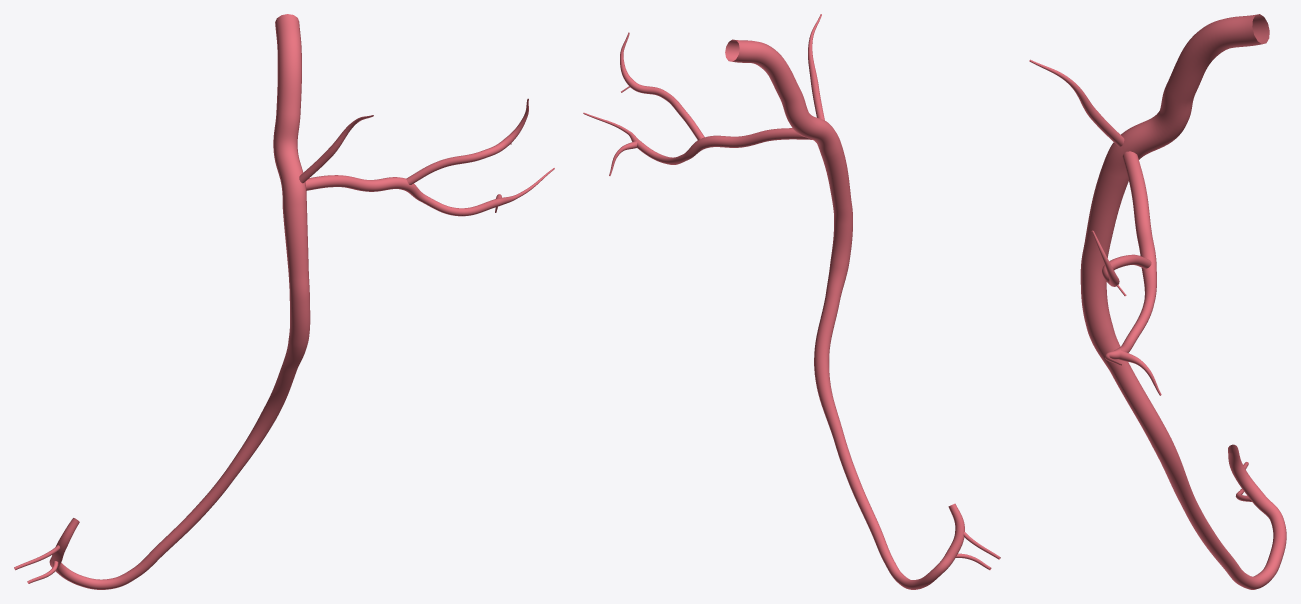
3 views of the same model, side by side, from view 1: azimuth 30°, elevation 25°; view 2: azimuth 150°, elevation 25°; view 3: azimuth 270°, elevation 25° (orthographic). The views are drawn at different scales.
Visible parts, largest first — view 1: ZA_49b4888056a49911; view 2: ZA_49b4888056a49911; view 3: ZA_49b4888056a49911.
Part boxes in pixels (x1,y1,x2,y2): ZA_49b4888056a49911: [14, 14, 554, 589]; ZA_49b4888056a49911: [583, 14, 1000, 589]; ZA_49b4888056a49911: [1029, 14, 1286, 589].
Bounding box in the file's own units: 0.1404 × 0.1456 × 0.0497.
